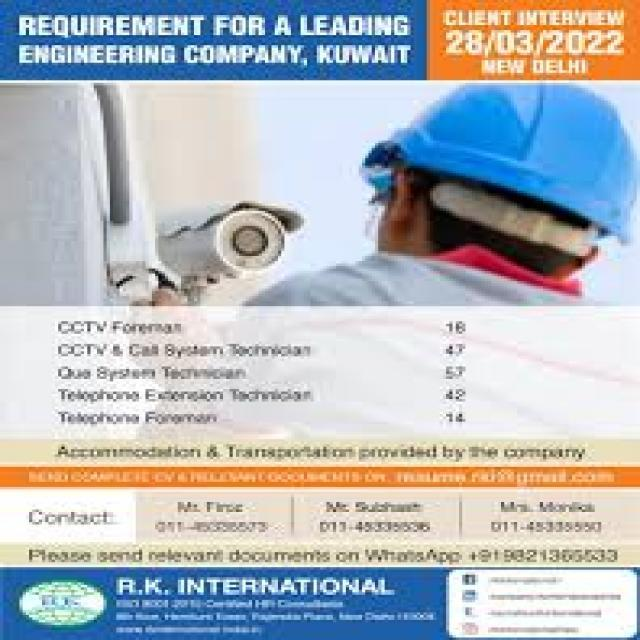safety_helmet: (365, 80, 639, 235)
